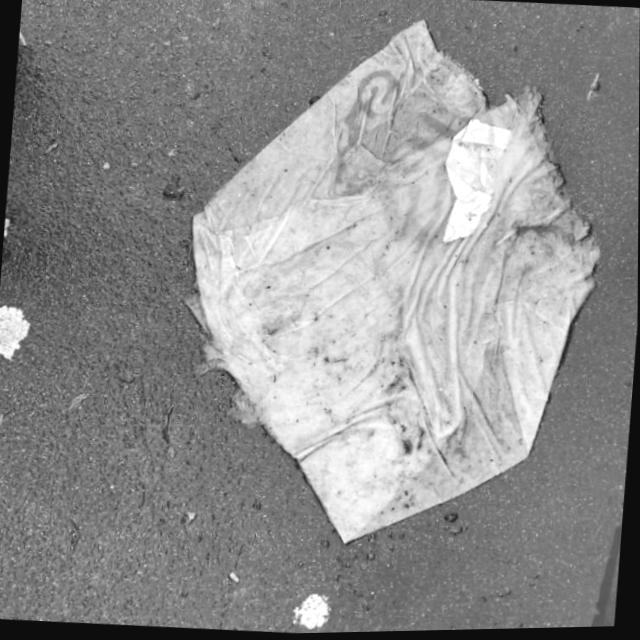Paper: (163, 0, 622, 570)
